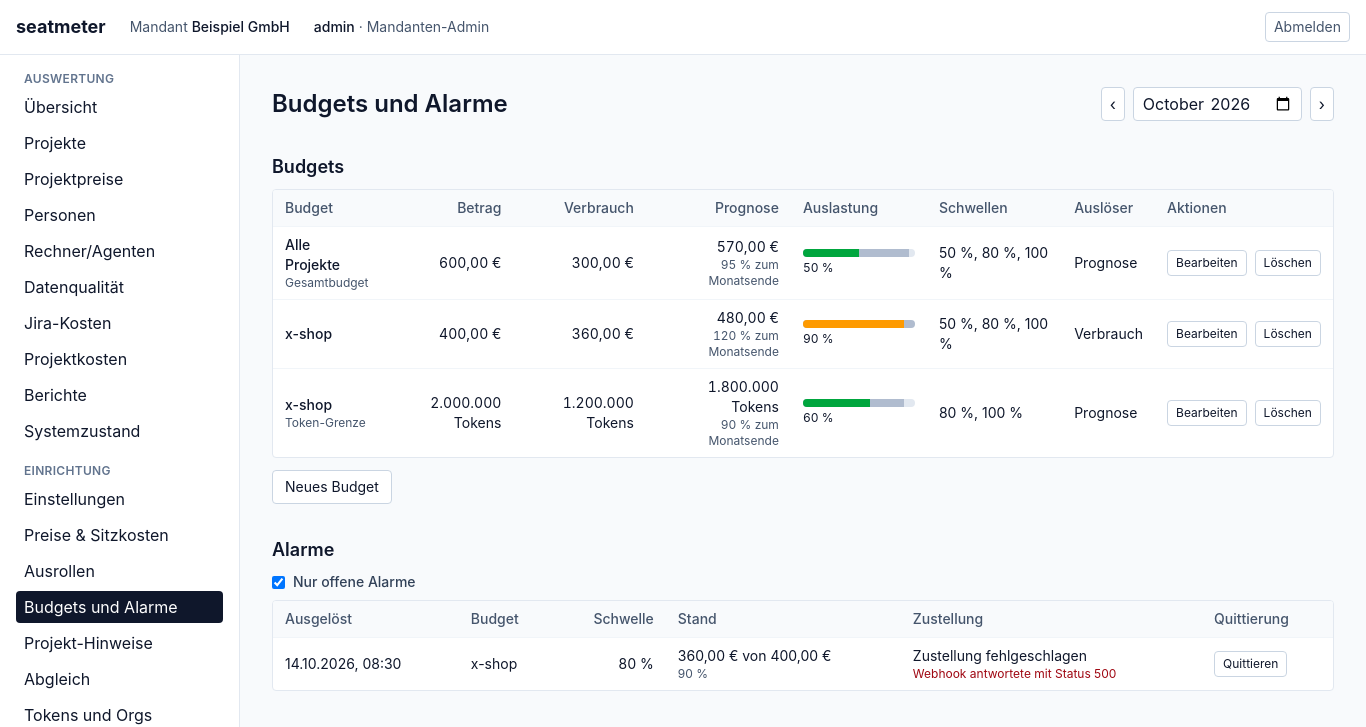
Test case: Budgets: anlegen, bearbeiten, löschen › ändert ein Budget per PUT mit allen Feldern
Click the button with aria-label "Budget x-shop bearbeiten": (1207, 334) x1=1167 y1=321 x2=1247 y2=347
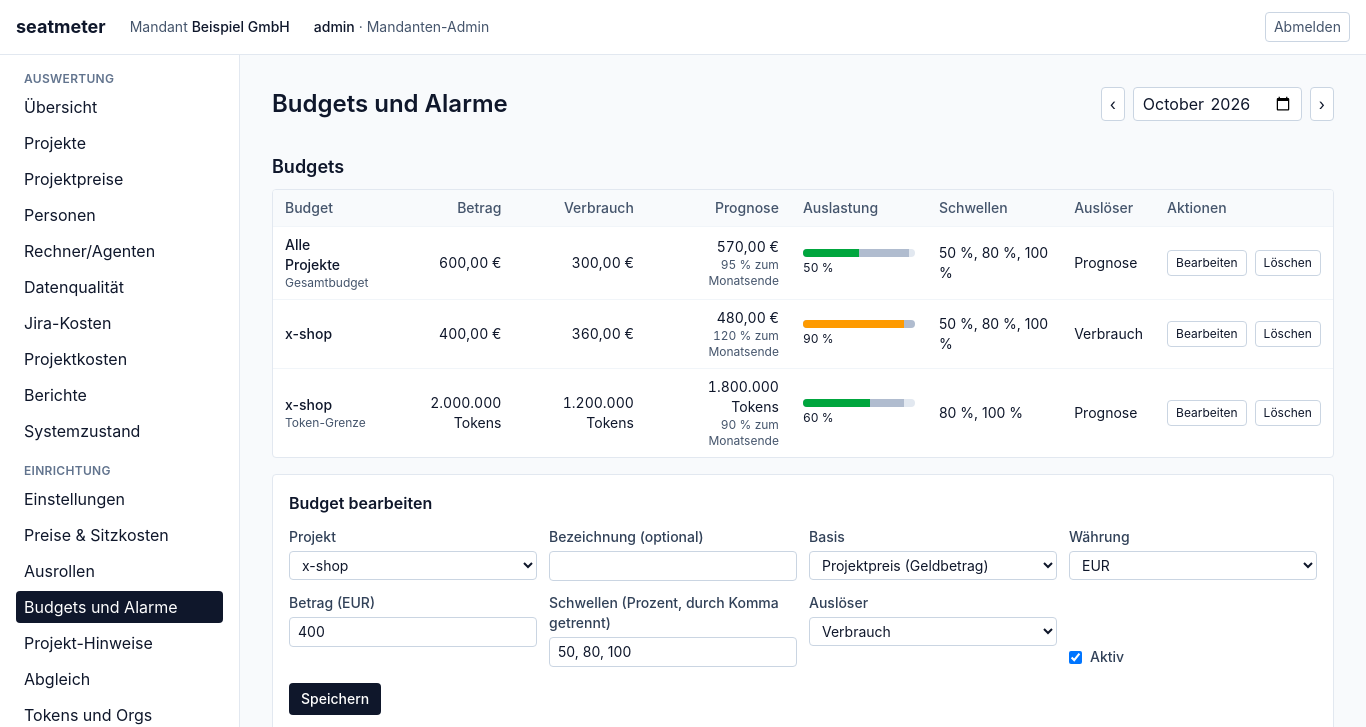
Expected: the field labelled "Betrag (EUR)" holds "400"
Replace the text in the field labelled "Betrag (EUR)" with "450,50": (413, 632) x1=289 y1=617 x2=537 y2=647
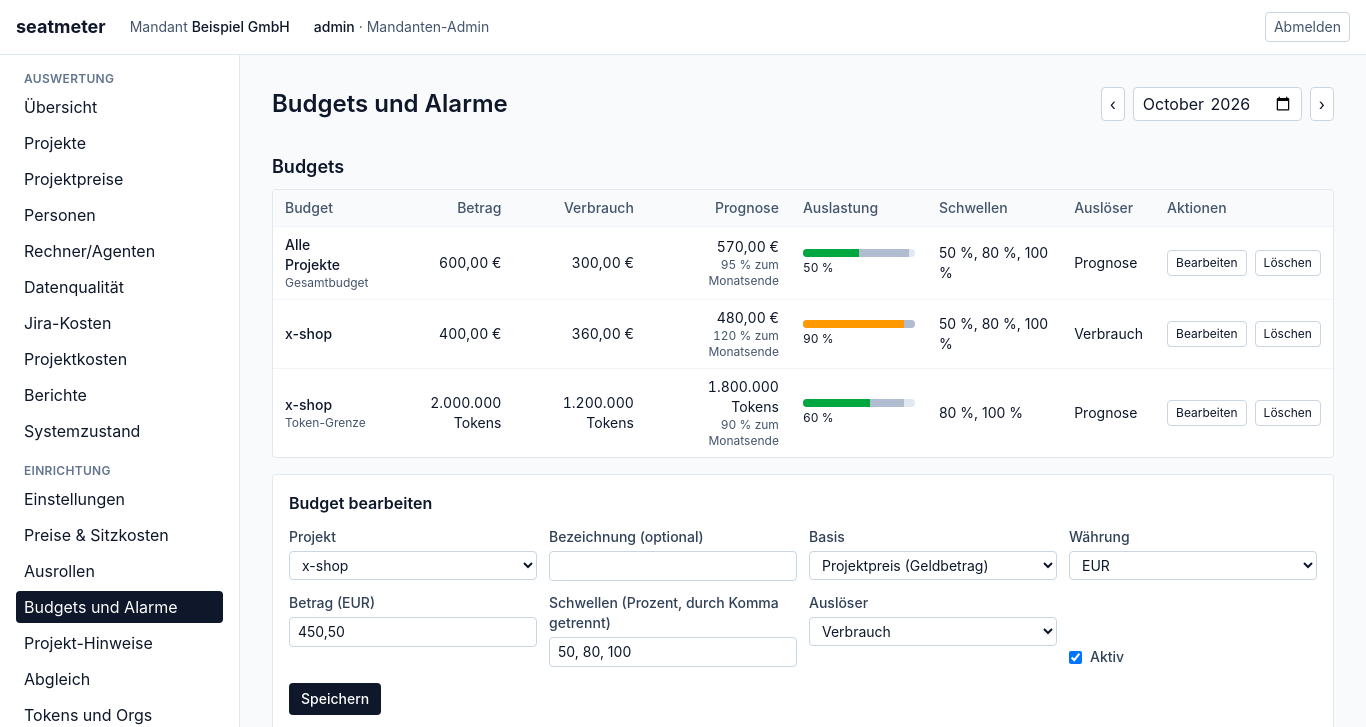
Click the button "Speichern": (335, 699) x1=289 y1=683 x2=381 y2=715
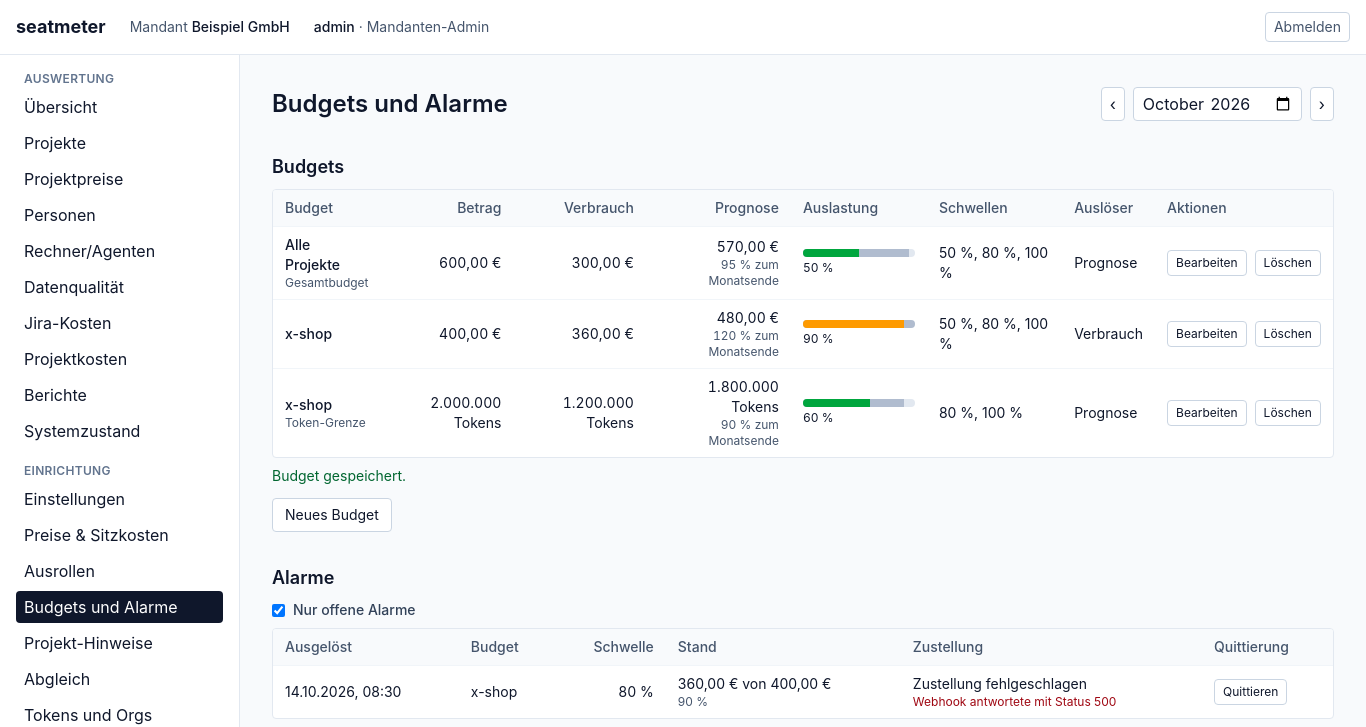
Expected: the text "Budget gespeichert." is shown, x1=272 y1=467 x2=406 y2=484
